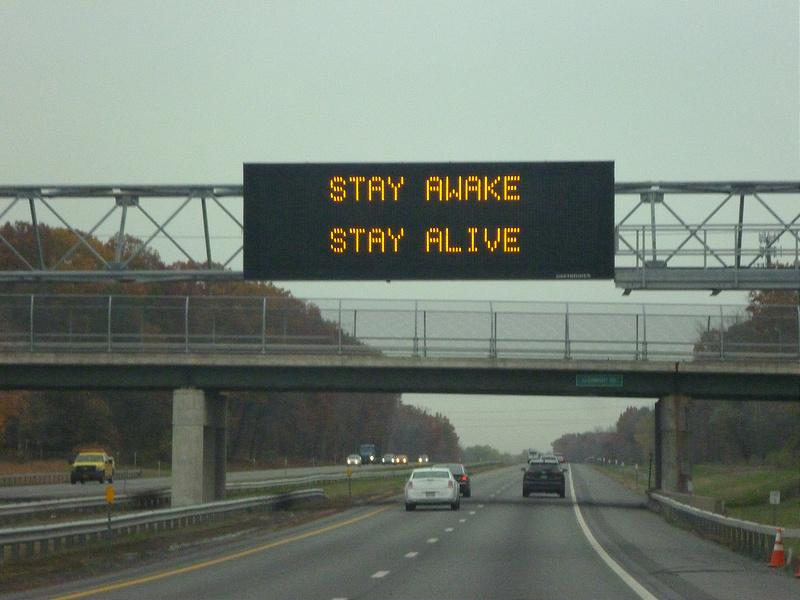bus: (358, 442, 380, 464)
car: (402, 468, 460, 511), (522, 460, 568, 498), (70, 449, 114, 484), (430, 463, 472, 498), (345, 453, 361, 466), (527, 450, 541, 464), (543, 455, 559, 466), (381, 453, 396, 464), (394, 453, 408, 464), (417, 454, 429, 464)
